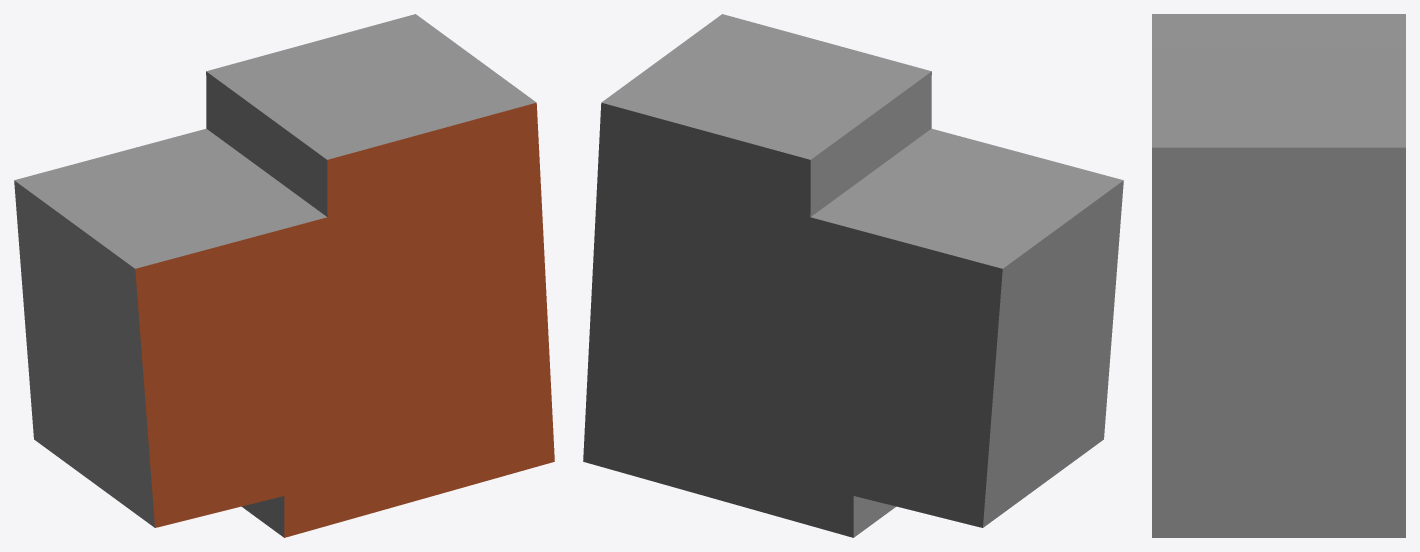
The model's file is construction_3585_assumed_A_Casa_h6m.obj.
3 renders of one model, left to right at view 1: azimuth 30°, elevation 25°; view 2: azimuth 150°, elevation 25°; view 3: azimuth 270°, elevation 25°, orthographic. The views are drawn at different scales.
Visible parts, largest first — view 1: construction_3585_assumed_A_Casa; view 2: construction_3585_assumed_A_Casa; view 3: construction_3585_assumed_A_Casa.
Part boxes in pixels (x1,y1,x2,y2): construction_3585_assumed_A_Casa: [14, 14, 554, 537]; construction_3585_assumed_A_Casa: [583, 14, 1123, 537]; construction_3585_assumed_A_Casa: [1152, 14, 1405, 537].
Size of the model in its own units: 12.01 by 10.22 by 6.
